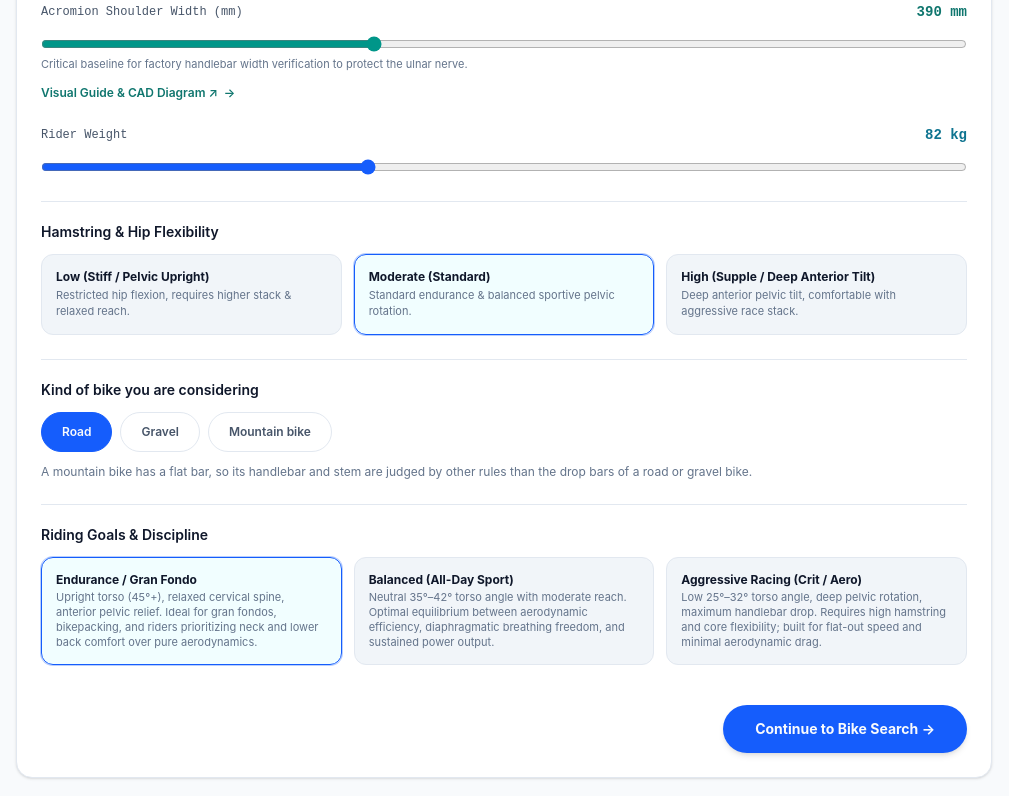
Path B step 2: the geometry of the bike (en) › should start with an empty name box and no bike chosen for the rider, and block the audit
(page scrolled)
Click the button "Continue to Bike Search →". click: (845, 729)
box: [723,705,967,753]
(page scrolled)
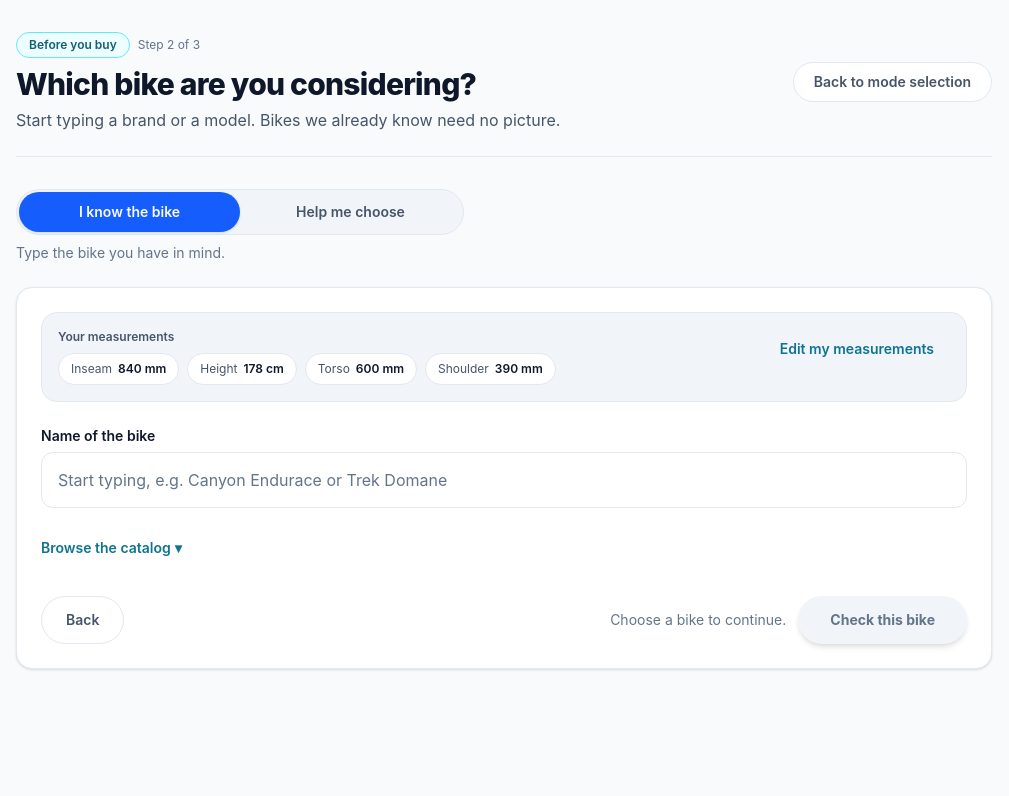
Check: the dropdown labelled "Name of the bike" is empty, box [41,452,967,508]
Check: the element with test id "catalog-picker" is shown, box [41,539,182,556]
